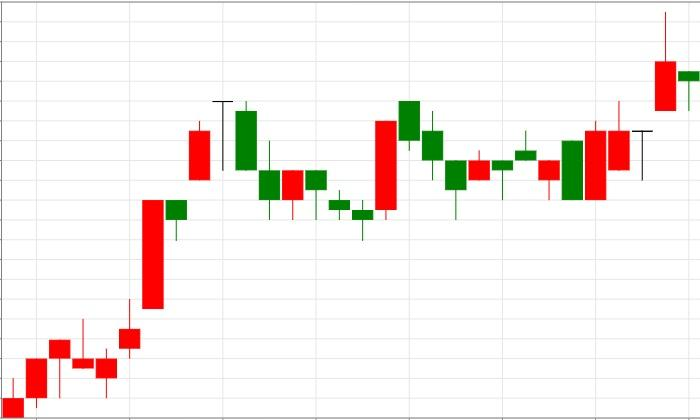three_white_soldiers_rise: (49, 200, 164, 399)
